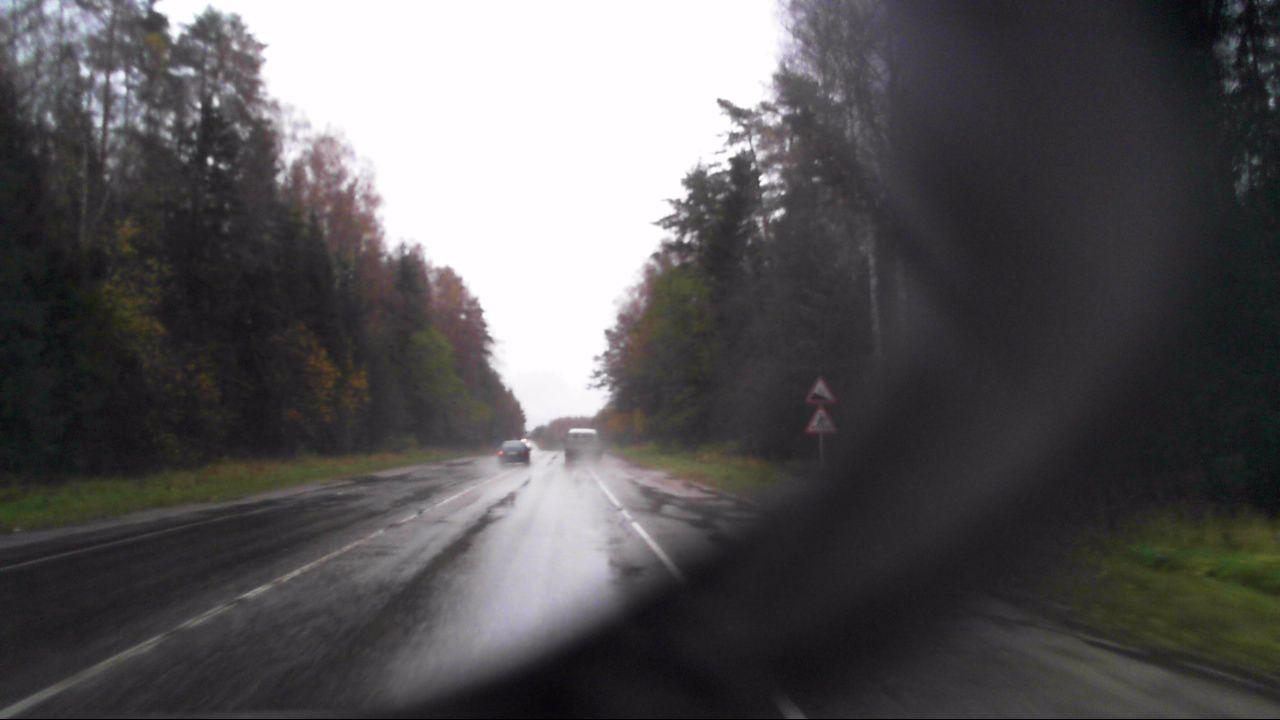1_13: (803, 377, 836, 406)
1_22: (806, 409, 838, 434)
